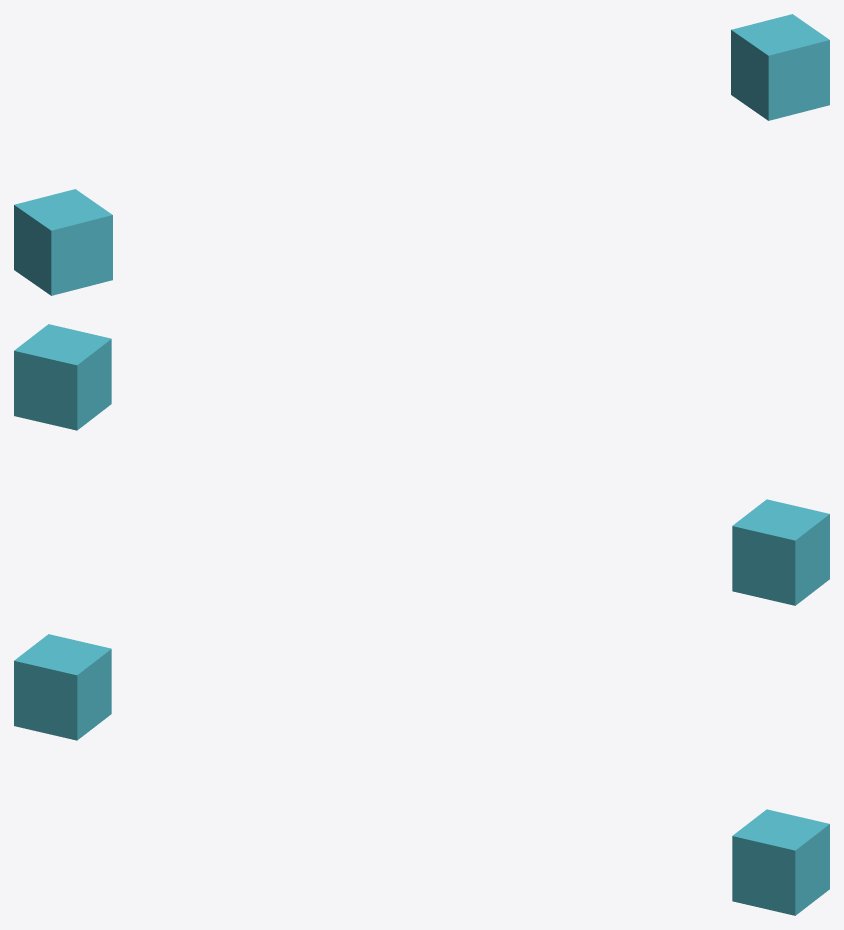
File: 42_chimney.glb
The picture shows the model from 3 angles, top to bottom: view 1: azimuth 30°, elevation 25°; view 2: azimuth 150°, elevation 25°; view 3: azimuth 330°, elevation 25°; orthographic projection.
Visible parts, largest first — view 1: Box002, Box003; view 2: Box002, Box003; view 3: Box002, Box003.
Boxes of the visible parts, x1,y1,x2,y2 form: Box002: [14, 189, 112, 295]; Box003: [731, 14, 829, 120]; Box002: [732, 499, 829, 605]; Box003: [14, 324, 111, 430]; Box002: [14, 634, 111, 740]; Box003: [732, 809, 829, 915].
Bounding box in the file's own units: 10.41 × 0.8302 × 0.8489.
